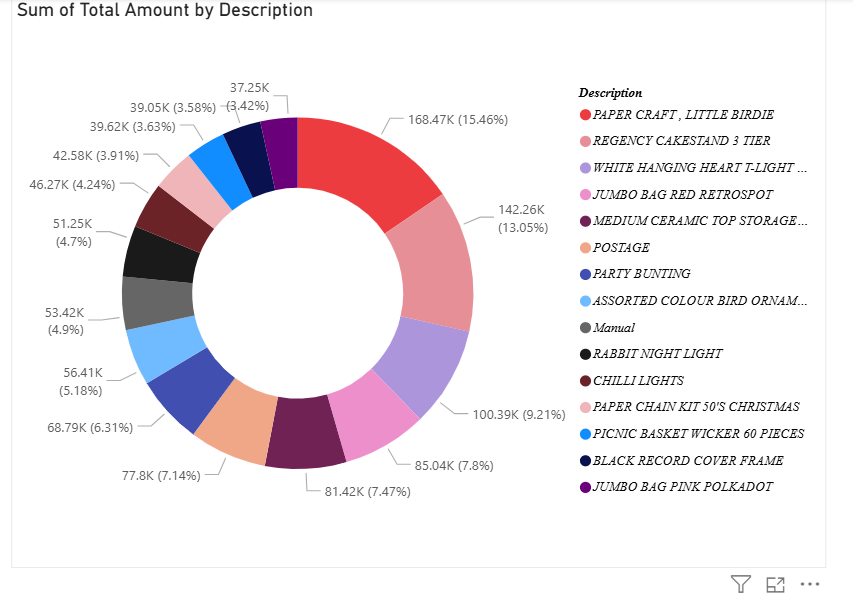

What the dashboard file says about the page in this screenshot:
{"tool":"powerbi","page":{"name":"Page 3","canvas":[1280,720],"ordinal":2},"visuals":[{"type":"donutChart","fields":{"Category":["ecommerce_cleaned.Description"],"Y":["Sum(ecommerce_cleaned.Total Amount)"]},"box":[9.8,0,734.9,513.6],"z":0}]}

Visuals, with their boxes on the page's 1280x720 design canvas (x1, y1, x2, y2). These are canvas units, not pixel positions in the 853x601 screenshot, which may show the page scaled, cropped or inside an application window:
donutChart - ecommerce_cleaned.Description x Sum(ecommerce_cleaned.Total Amount): [left=10, top=0, right=745, bottom=514]
